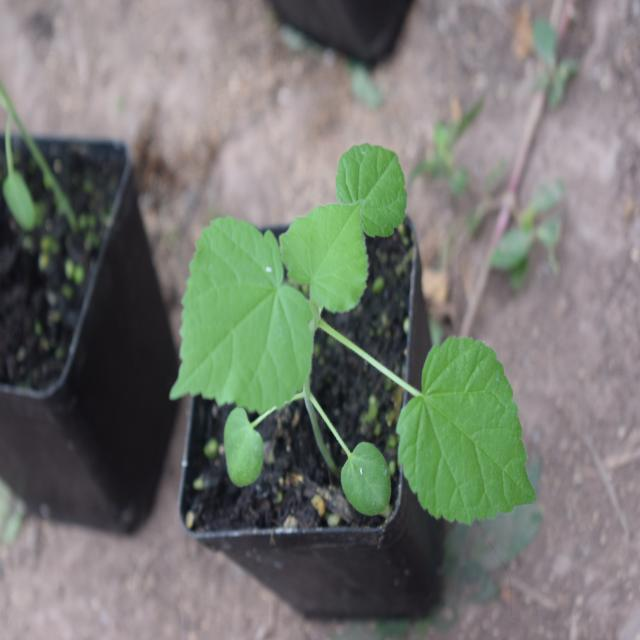abutilon theophrasti: (158, 145, 537, 514)
